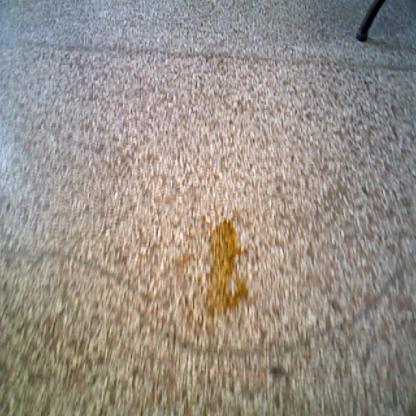liquid: (203, 216, 248, 317)
